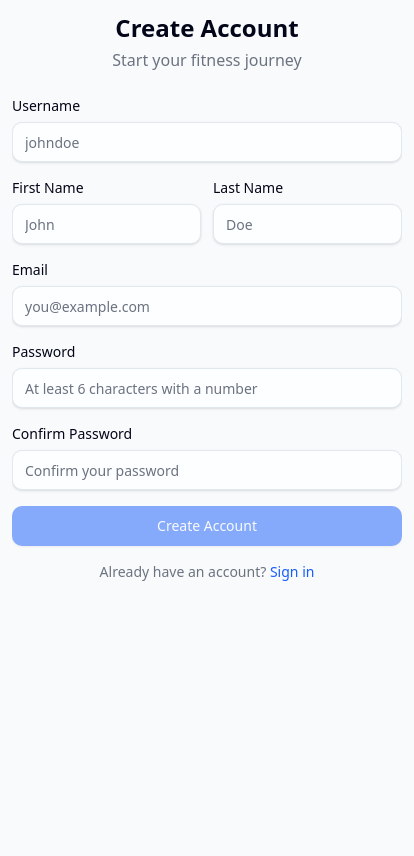
Test: SignUpForm › should show error when email is invalid
Type "invalid-email" into the field labelled "Email" at (207, 306), box [12,286,402,326]
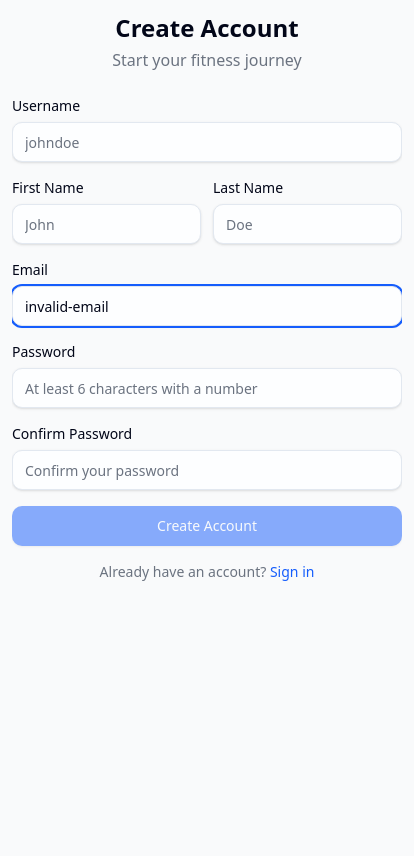
Press Tab
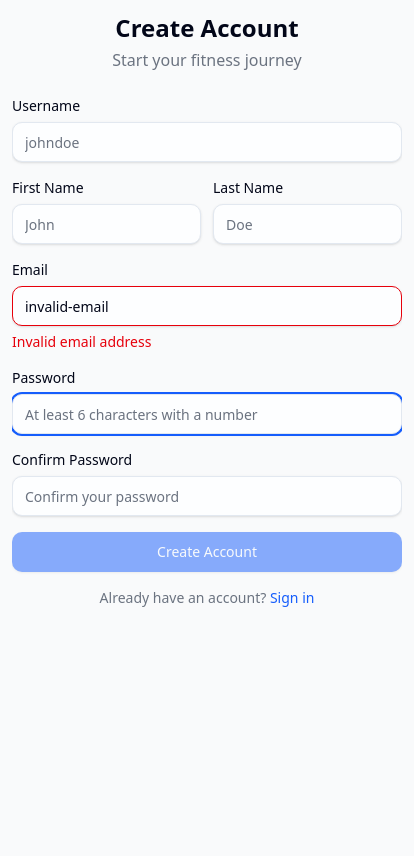
Now the text "Invalid email address" is shown, box [12,332,151,351]
